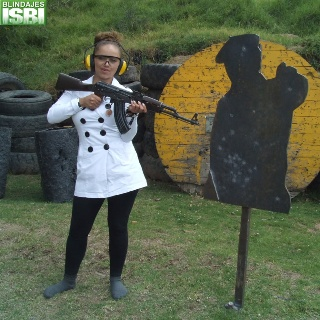rifle: (54, 70, 202, 135)
